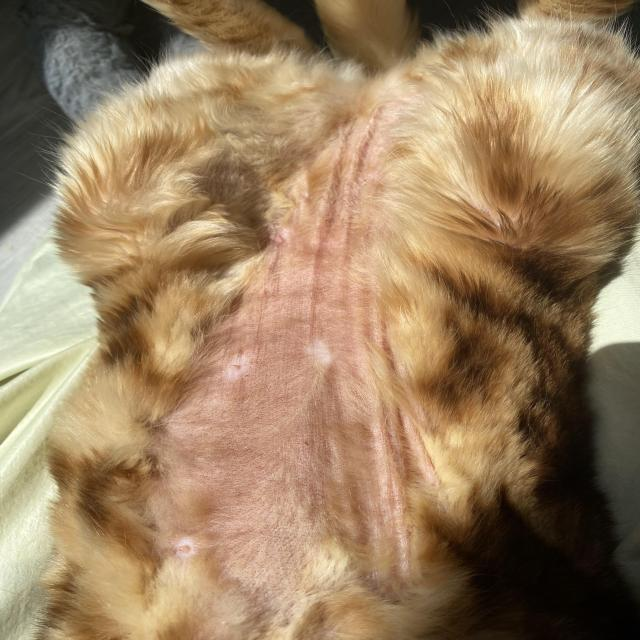cat-hairloss: (146, 73, 456, 626)
